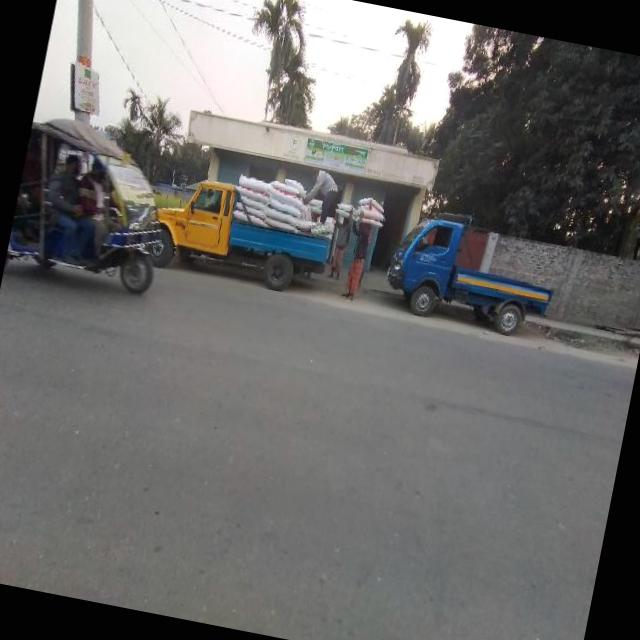motorcycle: (4, 116, 179, 304)
truck: (140, 151, 342, 304), (377, 208, 568, 345)
